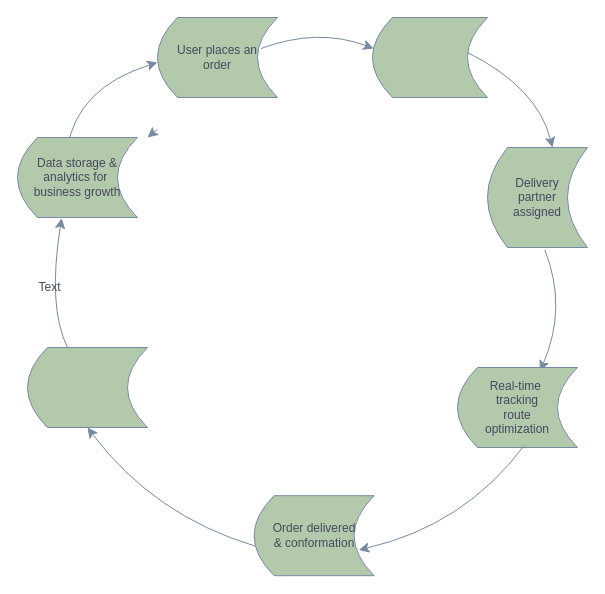
Some shapes in this 605 by 594 pixel diagram are drawn without their labels. The centre of each missing label's shape, as x and y in pixels:
Order were sent to the restaurant: pixel 430 57
Payment settlement &revenue distri bution: pixel 87 387
